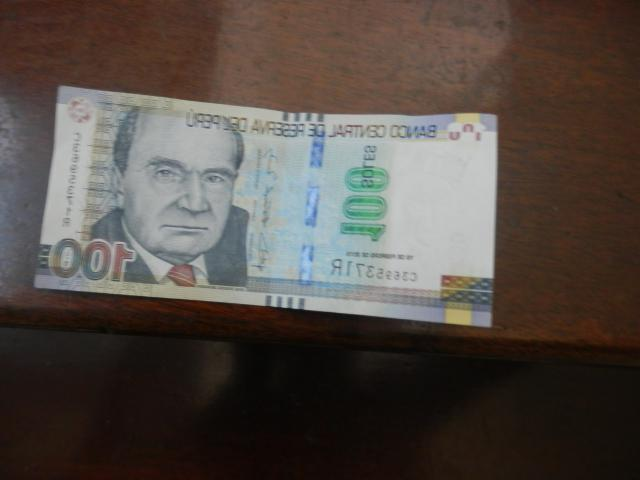B100: (40, 88, 497, 328)
